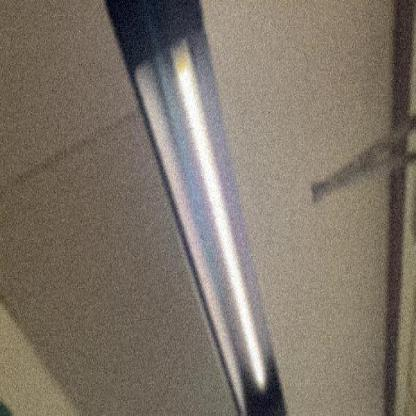light_on: (162, 35, 272, 397)
